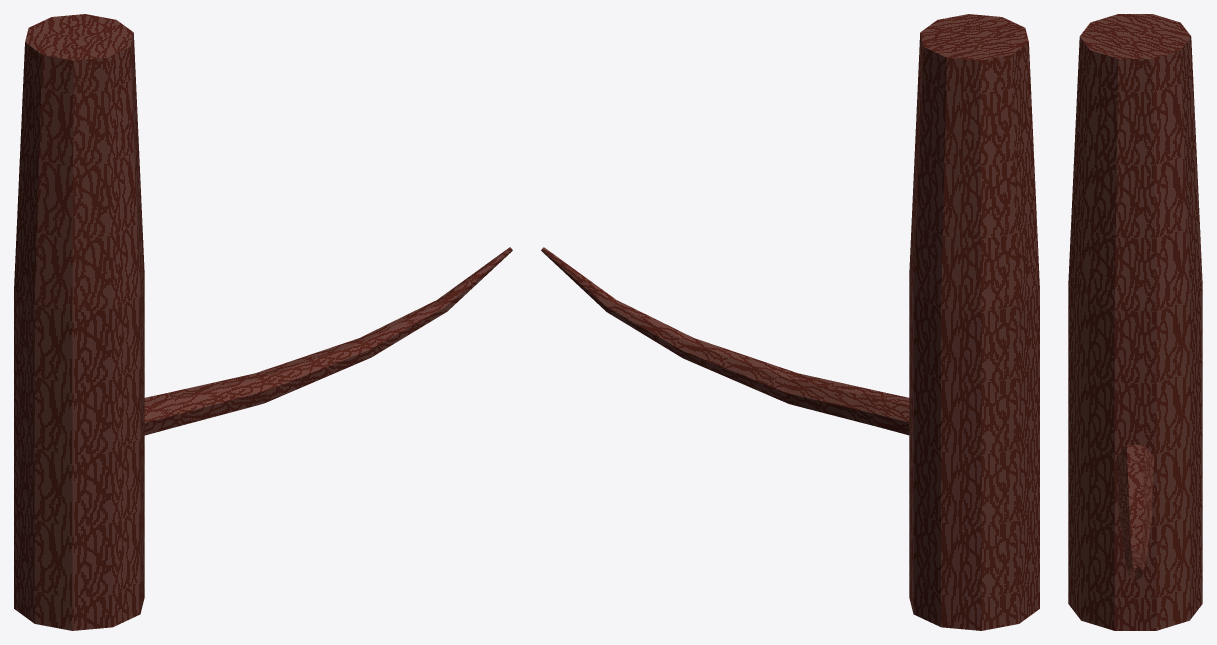
File: forest_collision.gltf
3 renders of one model, left to right at view 1: azimuth 30°, elevation 25°; view 2: azimuth 150°, elevation 25°; view 3: azimuth 270°, elevation 25°, orthographic.
Parts seen in each view (by area): view 1: Circle.001, Circle; view 2: Circle.001, Circle; view 3: Circle.001, Circle.
Boxes of the visible parts, bbox=[...] form: Circle.001: bbox=[14, 14, 144, 630]; Circle: bbox=[144, 247, 512, 435]; Circle.001: bbox=[909, 14, 1039, 630]; Circle: bbox=[541, 247, 909, 435]; Circle.001: bbox=[1068, 14, 1202, 630]; Circle: bbox=[1116, 445, 1154, 580].
Bounding box in the file's own units: 27.09 × 30 × 6.43.
Materials: 1 (1 with a texture image).
